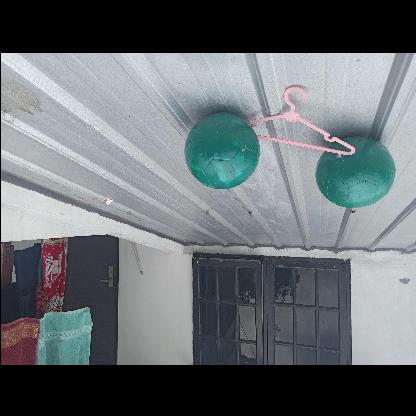green_ball: (315, 132, 394, 211), (184, 110, 262, 188)
